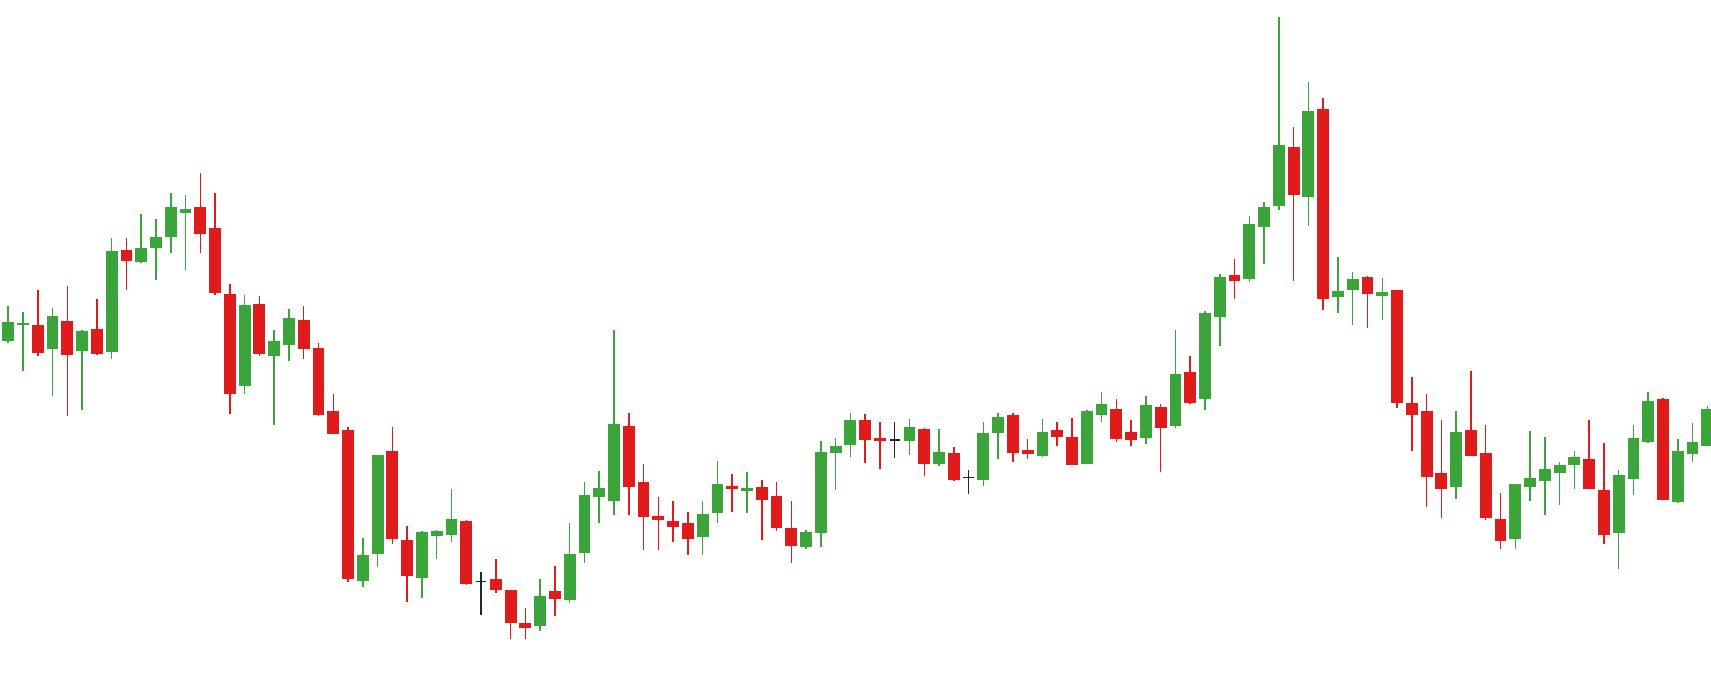buy: (1496, 465, 1631, 572), (680, 502, 812, 569)
